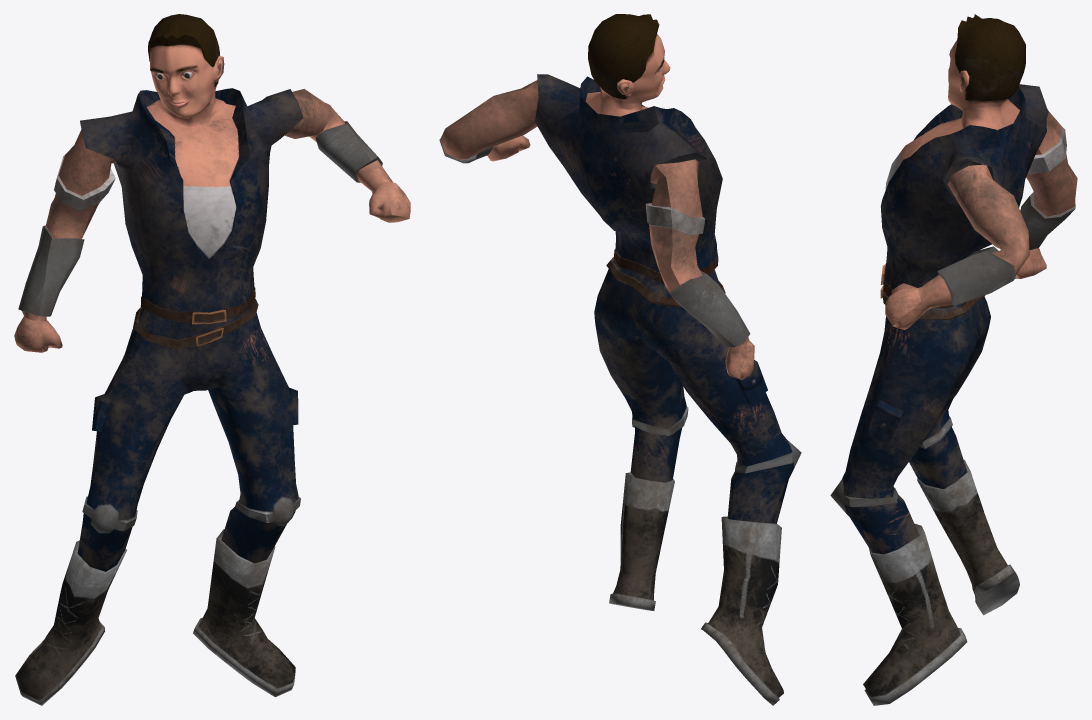
File: Anim_ataque_f2_jugador.0021.obj
3 renders of one model, left to right at view 1: azimuth 30°, elevation 25°; view 2: azimuth 150°, elevation 25°; view 3: azimuth 270°, elevation 25°, orthographic. The views are drawn at different scales.
Parts seen in each view (by area): view 1: polySurface1; view 2: polySurface1; view 3: polySurface1.
Part boxes in pixels (box(x1,y1,x2,y2)): polySurface1: box(14, 14, 410, 705); polySurface1: box(439, 14, 801, 705); polySurface1: box(830, 14, 1077, 705).
Size of the model in its own units: 5.38 by 9.76 by 3.29.
